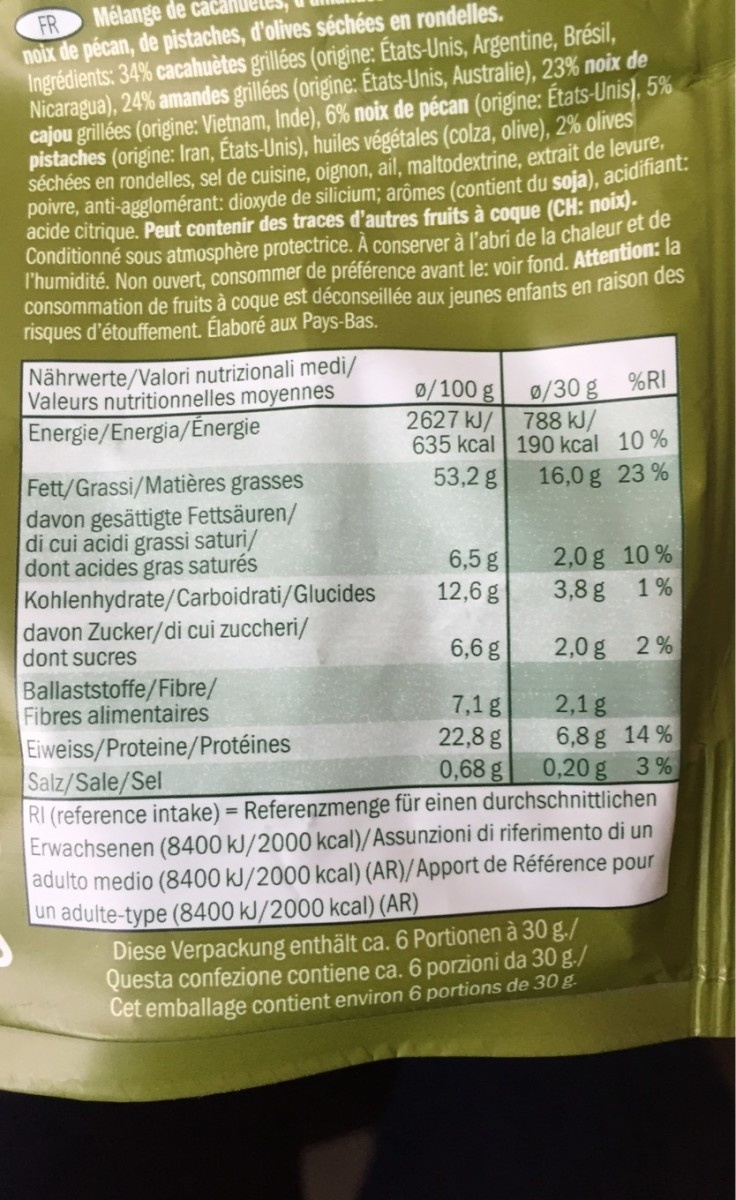column: (25, 353, 379, 793), (512, 362, 610, 782), (404, 377, 505, 777), (620, 358, 678, 776)
table: (12, 336, 674, 798)
